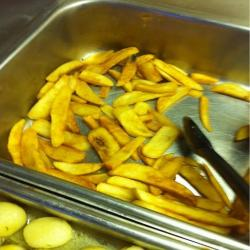fries: (24, 51, 202, 200)
